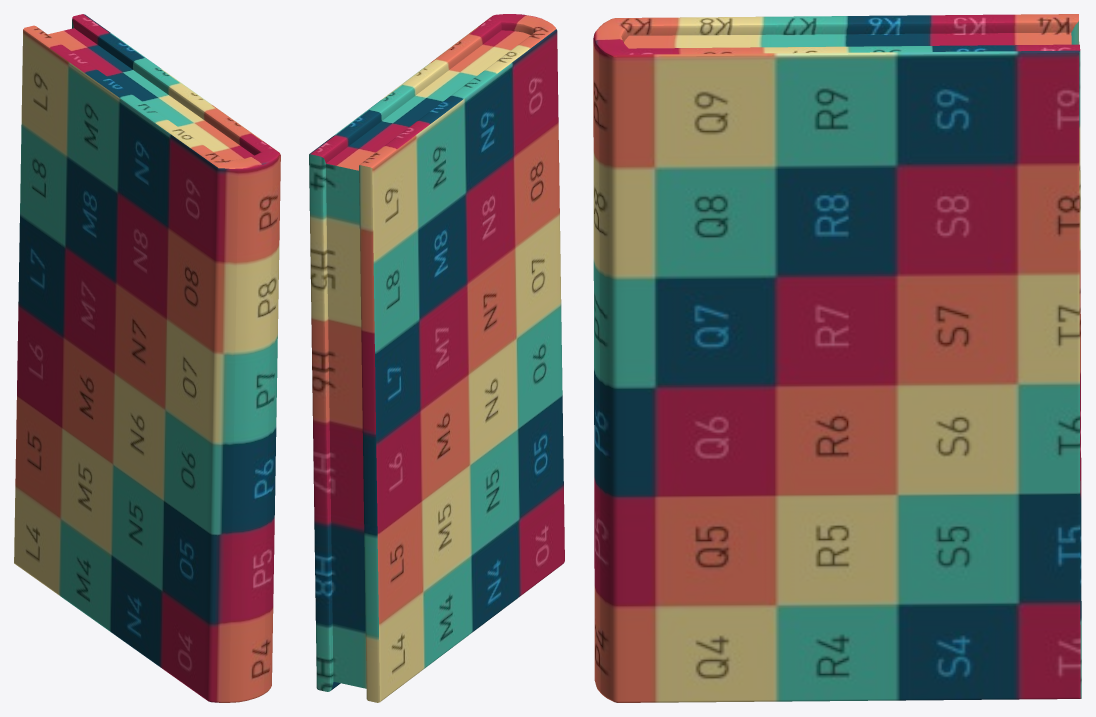
Rendered from book_3.fbx.
The picture shows the model from 3 angles, left to right: view 1: azimuth 30°, elevation 25°; view 2: azimuth 150°, elevation 25°; view 3: azimuth 270°, elevation 25°; orthographic projection. The views are drawn at different scales.
Visible parts, largest first — view 1: book_3; view 2: book_3; view 3: book_3.
Boxes of the visible parts, <box> form: book_3: <box>14,14,280,702</box>; book_3: <box>309,14,564,702</box>; book_3: <box>593,14,1081,702</box>.
Size of the model in its own units: 3.17 by 20.85 by 14.08.
